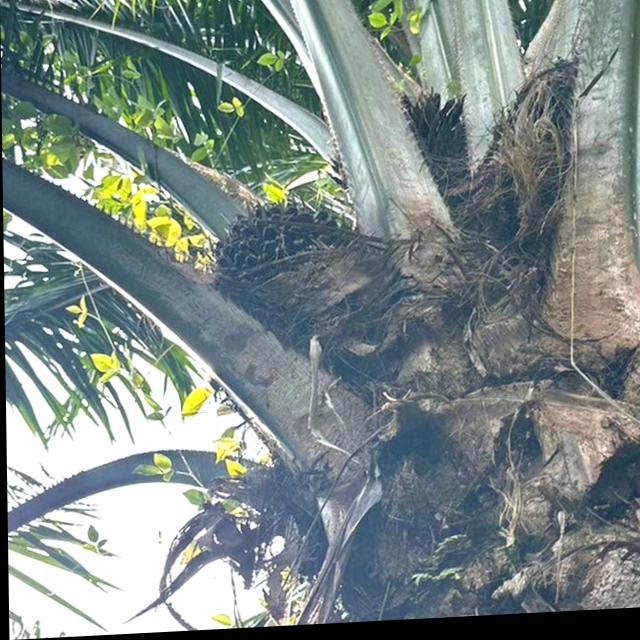almost: (206, 188, 390, 357)
